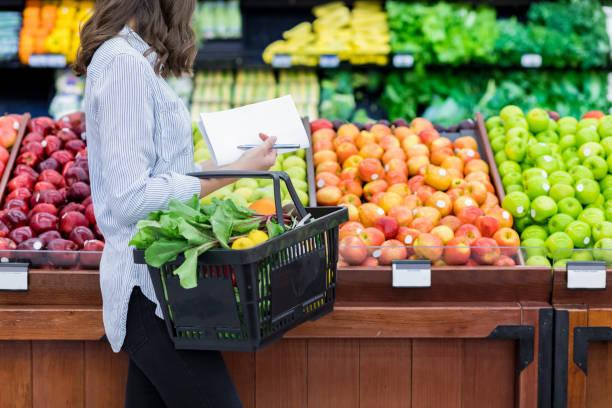Person: (74, 0, 239, 406)
article: (531, 196, 556, 221), (427, 191, 451, 216), (29, 212, 57, 233)
cage: (148, 206, 345, 350)
